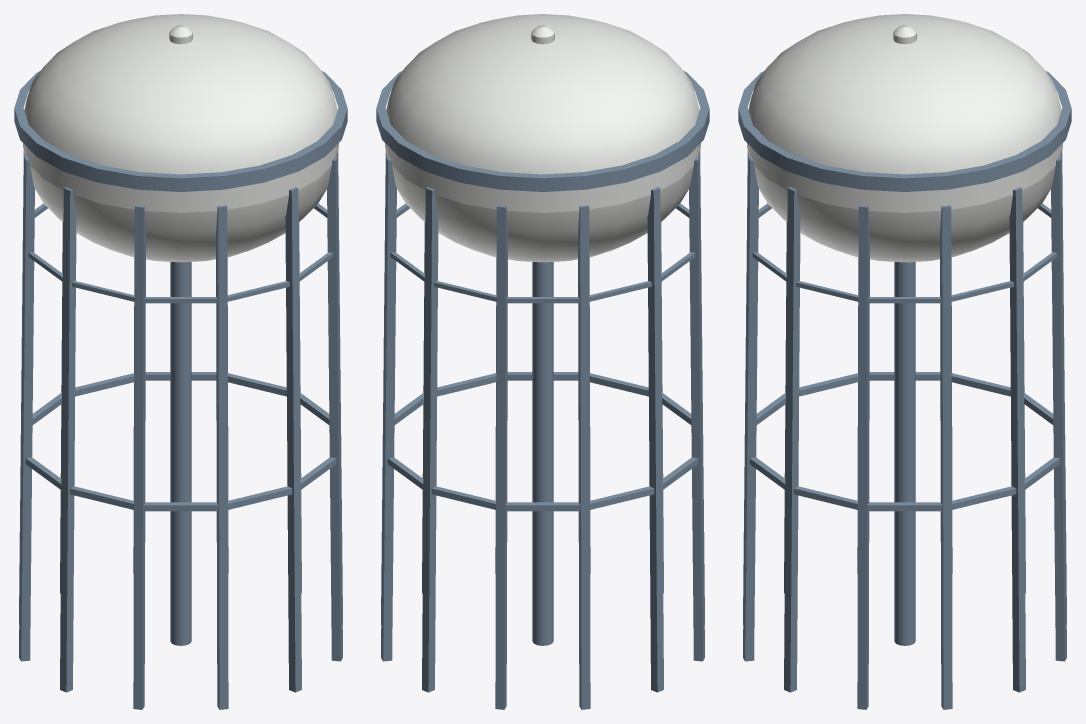
The model's file is elizabeth-water-tower.glb.
The picture shows the model from 3 angles, left to right: view 1: azimuth 30°, elevation 25°; view 2: azimuth 150°, elevation 25°; view 3: azimuth 270°, elevation 25°; orthographic projection.
Parts seen in each view (by area): view 1: Elizabeth water tower; view 2: Elizabeth water tower; view 3: Elizabeth water tower.
Part boxes in pixels (x1,y1,x2,y2): Elizabeth water tower: [14, 14, 347, 709]; Elizabeth water tower: [376, 14, 709, 709]; Elizabeth water tower: [738, 14, 1071, 709].
Size of the model in its own units: 25.3 by 51.5 by 25.3.
